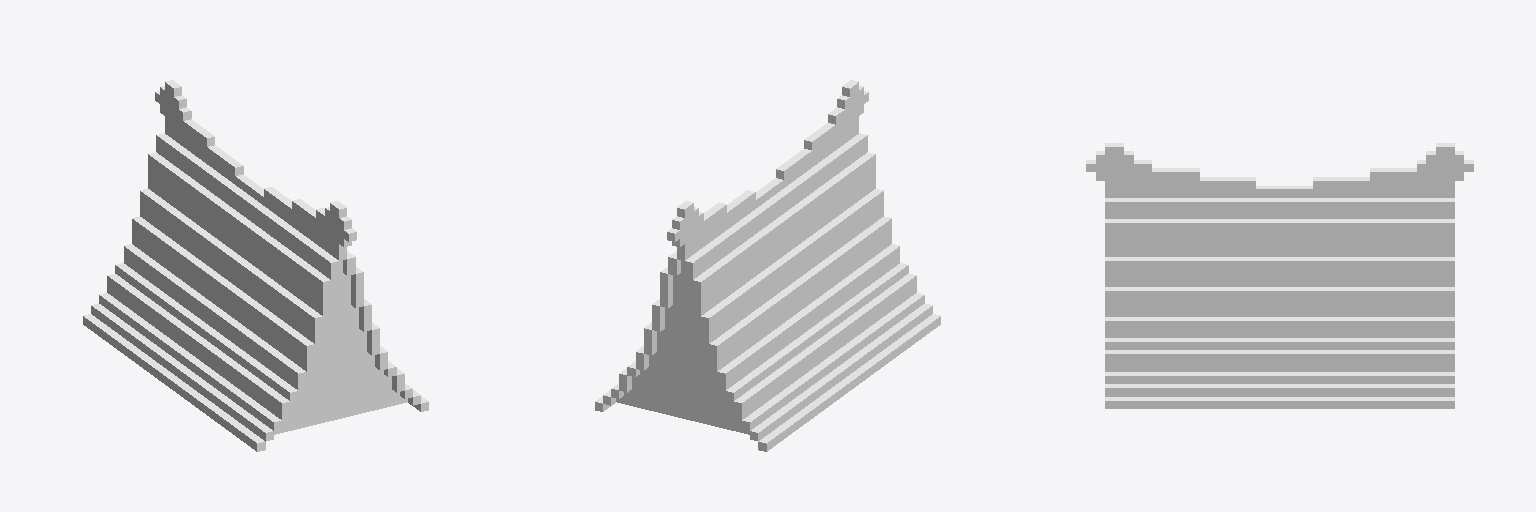
The model's file is toit_ville_riche_1.obj.
The picture shows the model from 3 angles: view 1: azimuth 30°, elevation 25°; view 2: azimuth 150°, elevation 25°; view 3: azimuth 270°, elevation 25°; orthographic projection.
Visible parts, largest first — view 1: toit_ville_riche_1; view 2: toit_ville_riche_1; view 3: toit_ville_riche_1.
Boxes of the visible parts, <box> form: toit_ville_riche_1: <box>83,80,428,451</box>; toit_ville_riche_1: <box>595,80,940,451</box>; toit_ville_riche_1: <box>1086,143,1473,408</box>.
Bounding box in the file's own units: 21 × 26 × 41.